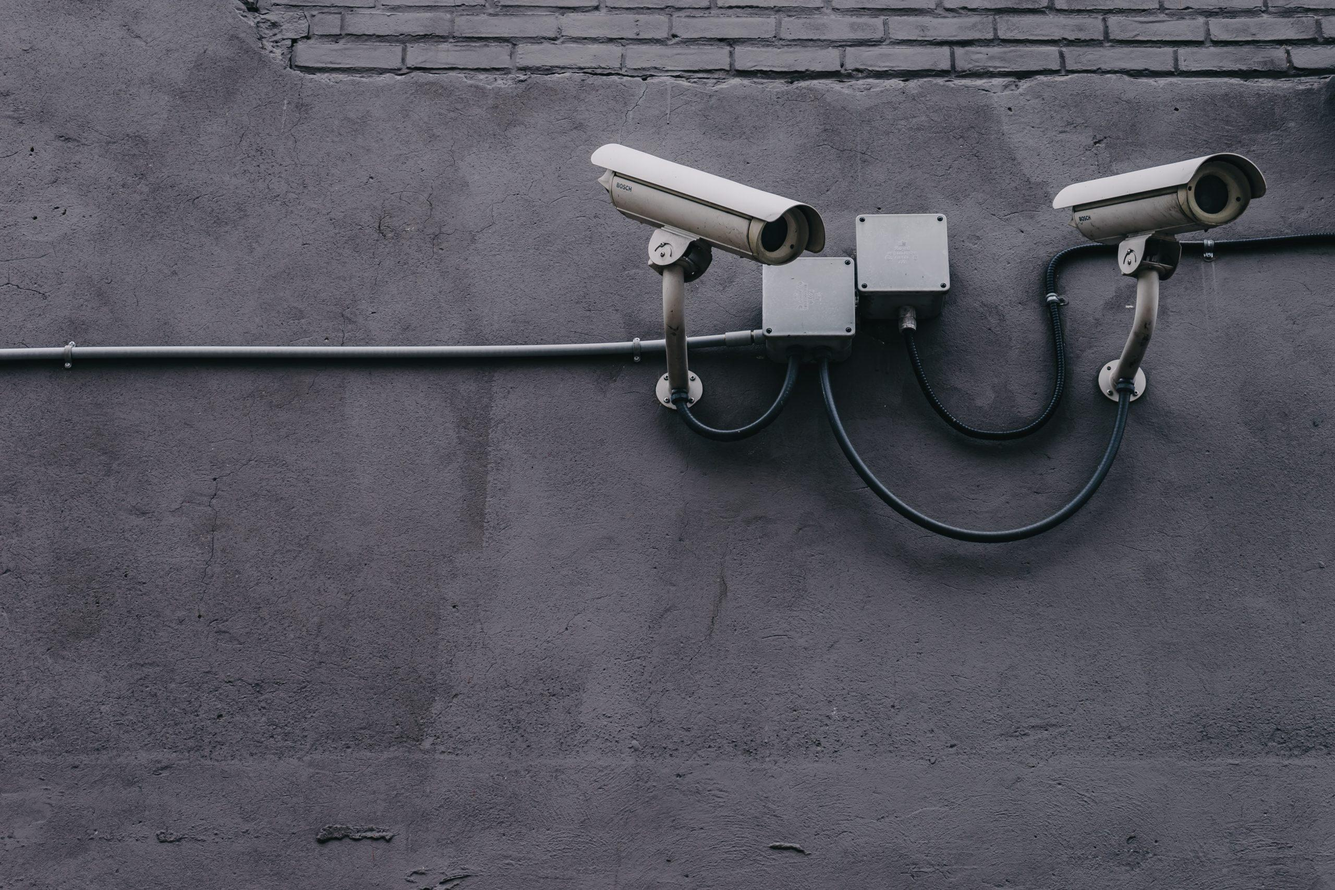camera: (983, 86, 1285, 289), (540, 112, 814, 313)
